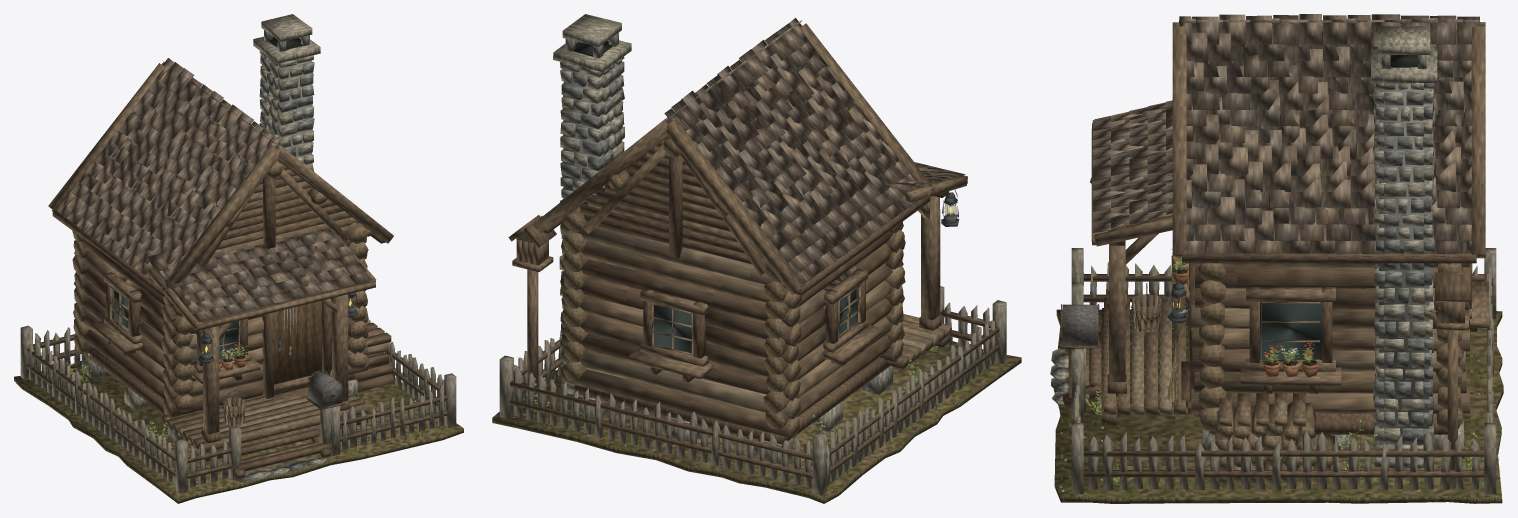
The model's file is log-cabin.glb.
The picture shows the model from 3 angles, left to right: view 1: azimuth 30°, elevation 25°; view 2: azimuth 150°, elevation 25°; view 3: azimuth 270°, elevation 25°; orthographic projection. The views are drawn at different scales.
Parts seen in each view (by area): view 1: log-cabin; view 2: log-cabin; view 3: log-cabin.
Part boxes in pixels (x1,y1,x2,y2): log-cabin: (14,14,463,503); log-cabin: (492,14,1021,503); log-cabin: (1050,14,1503,503).
Size of the model in its own units: 4.65 by 5 by 4.73.
Materials: 41 (19 with a texture image).
